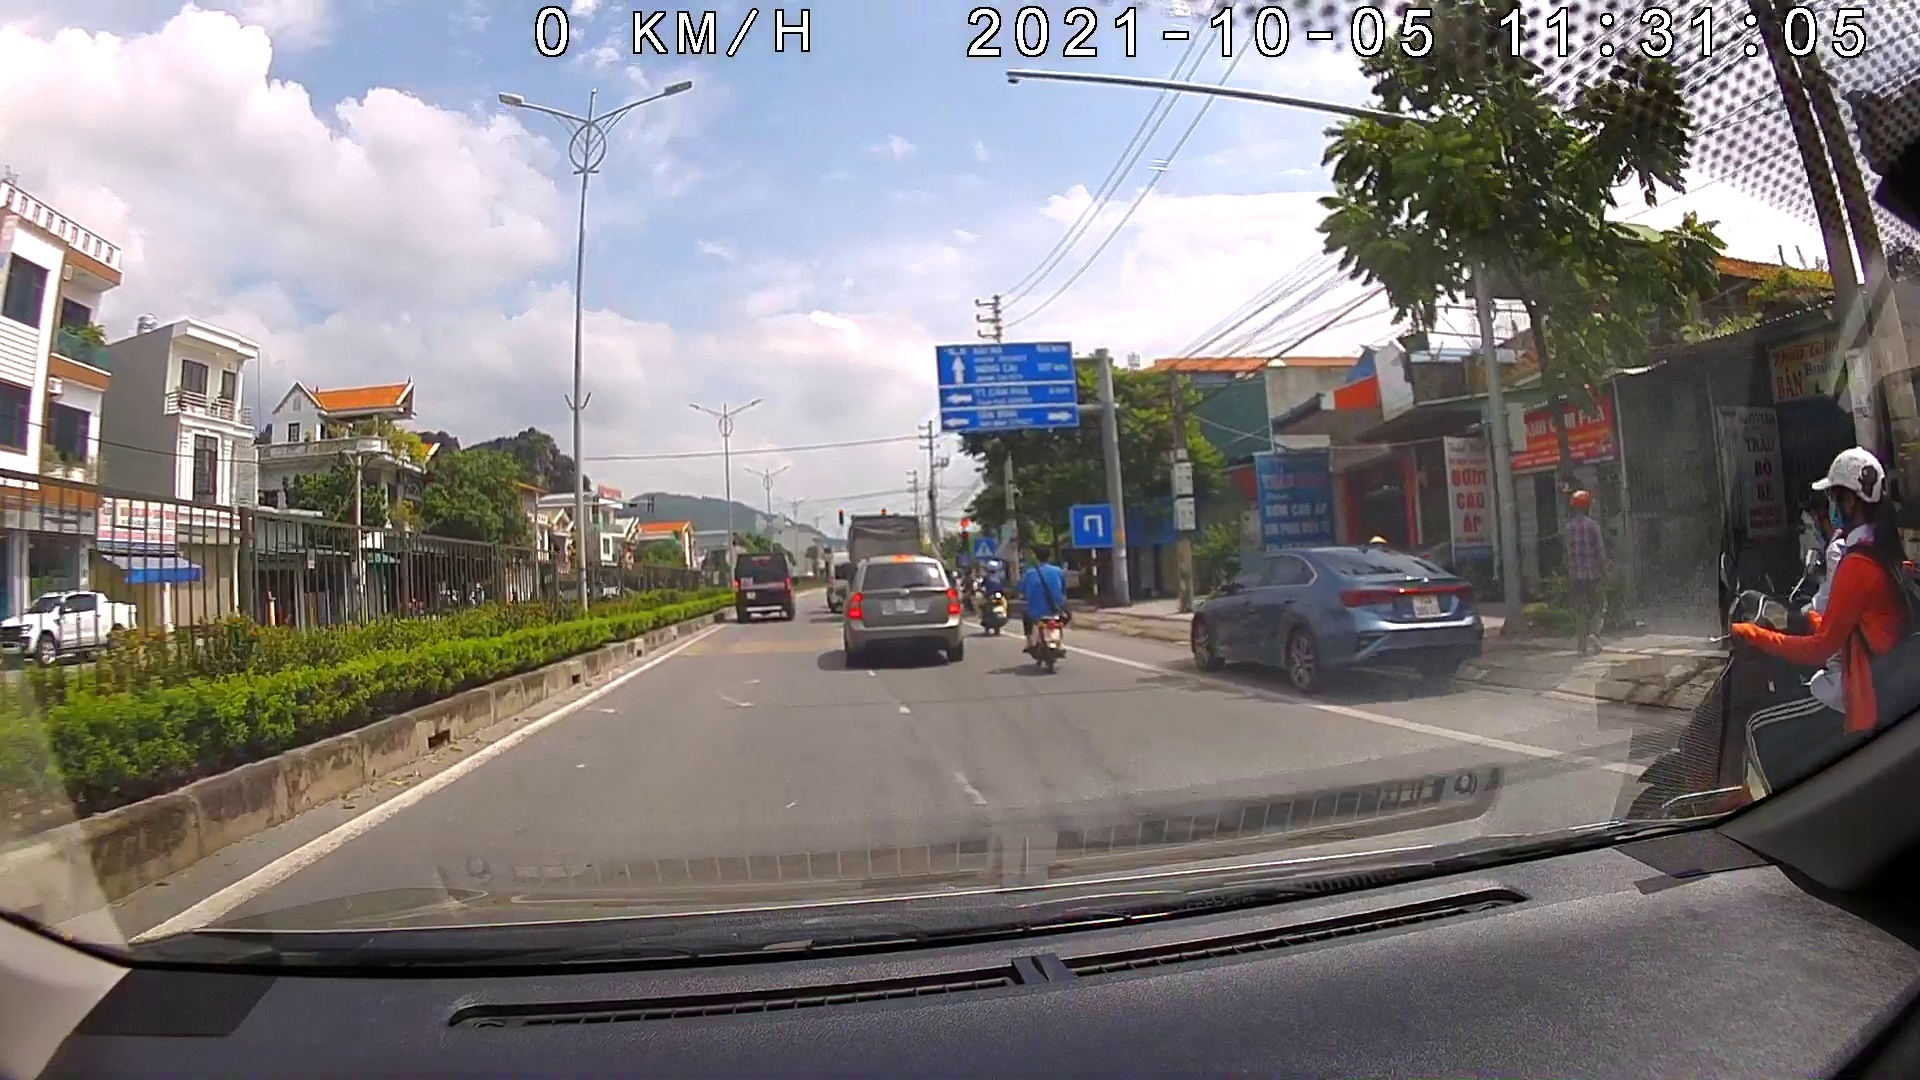Bien khac: (1069, 502, 1114, 551)
Nguoi di bo: (971, 535, 996, 559)
